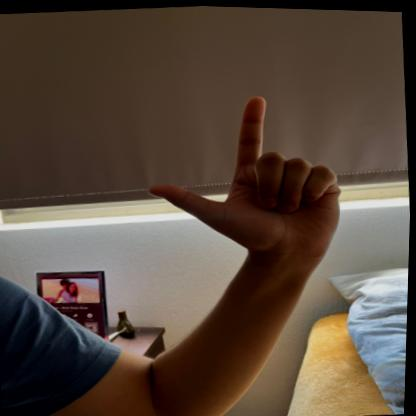L: (136, 83, 356, 269)
